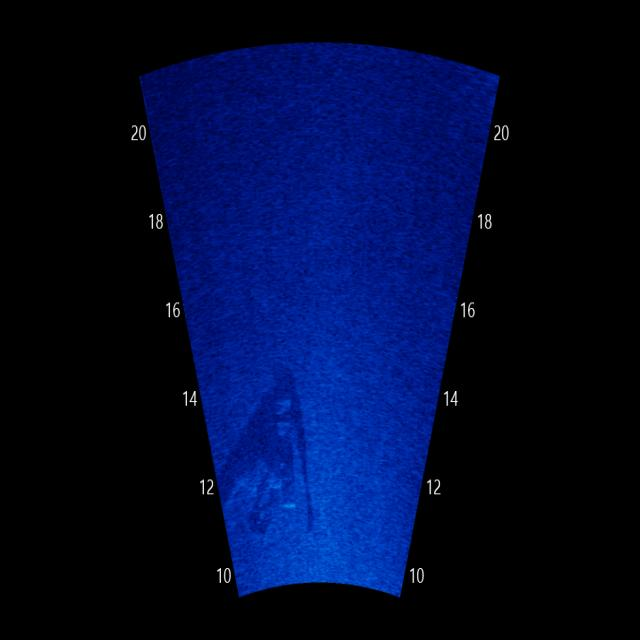triangle: (219, 381, 325, 533)
